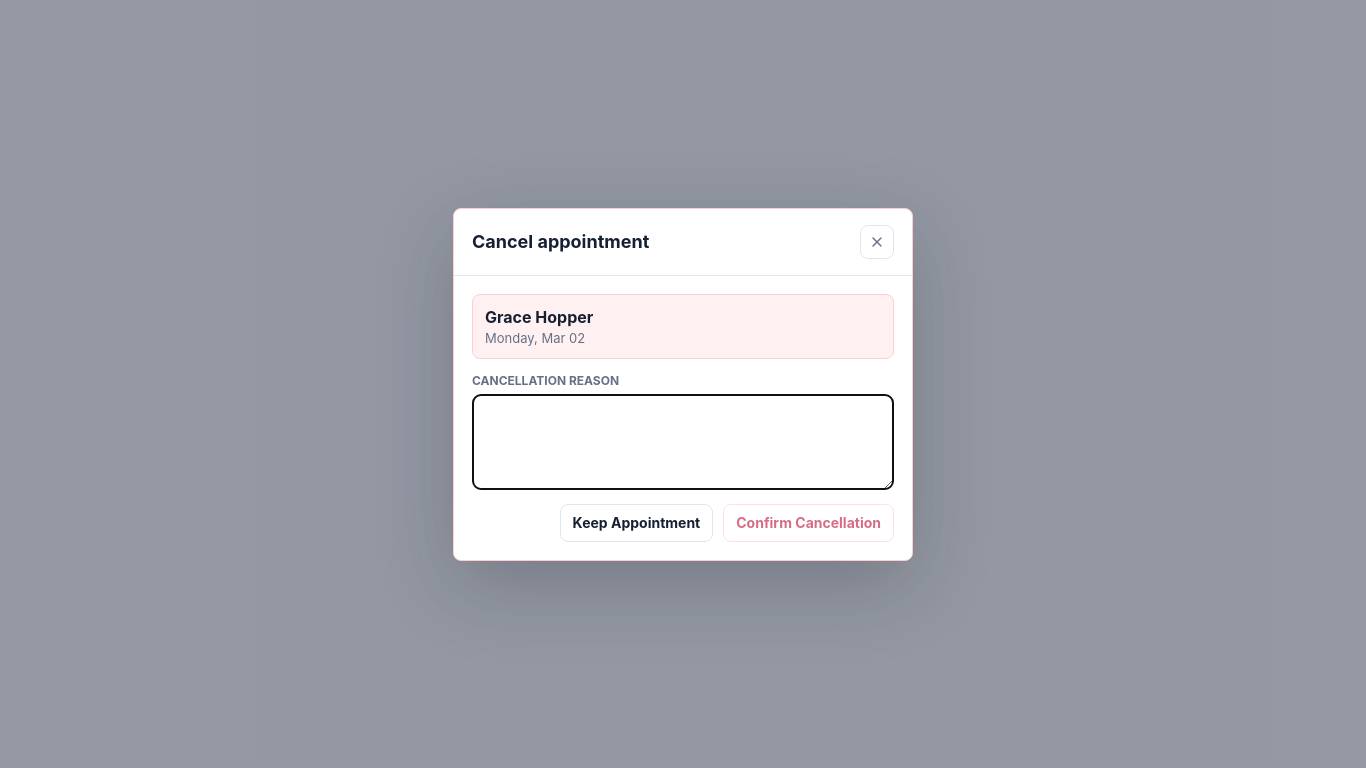
Test: CancelAppointmentDialog › shows what the API refused and stays open until the reason changes
Type "Patient called" into the text box labelled "Cancellation Reason" at (683, 442), box [472,394,894,490]
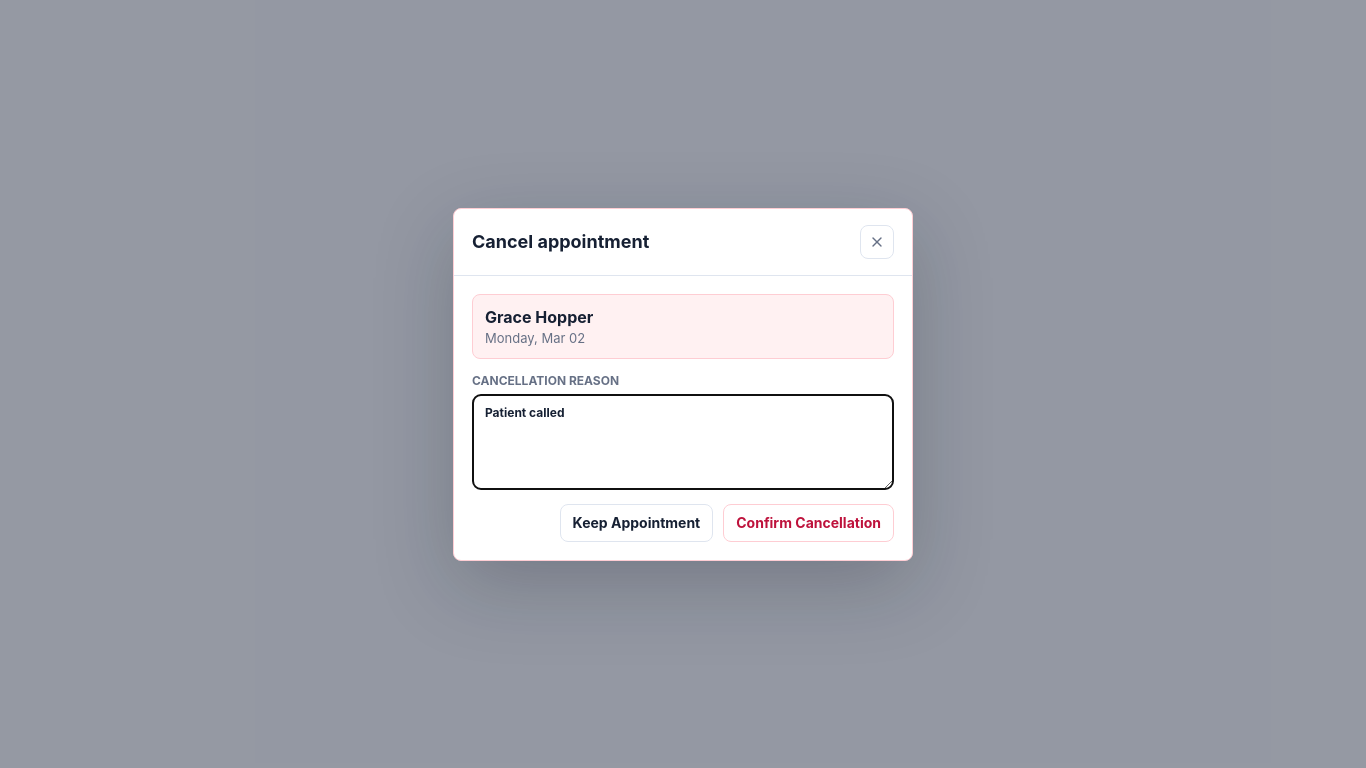
Click the button "Confirm Cancellation" at (809, 522), box [723,504,894,542]
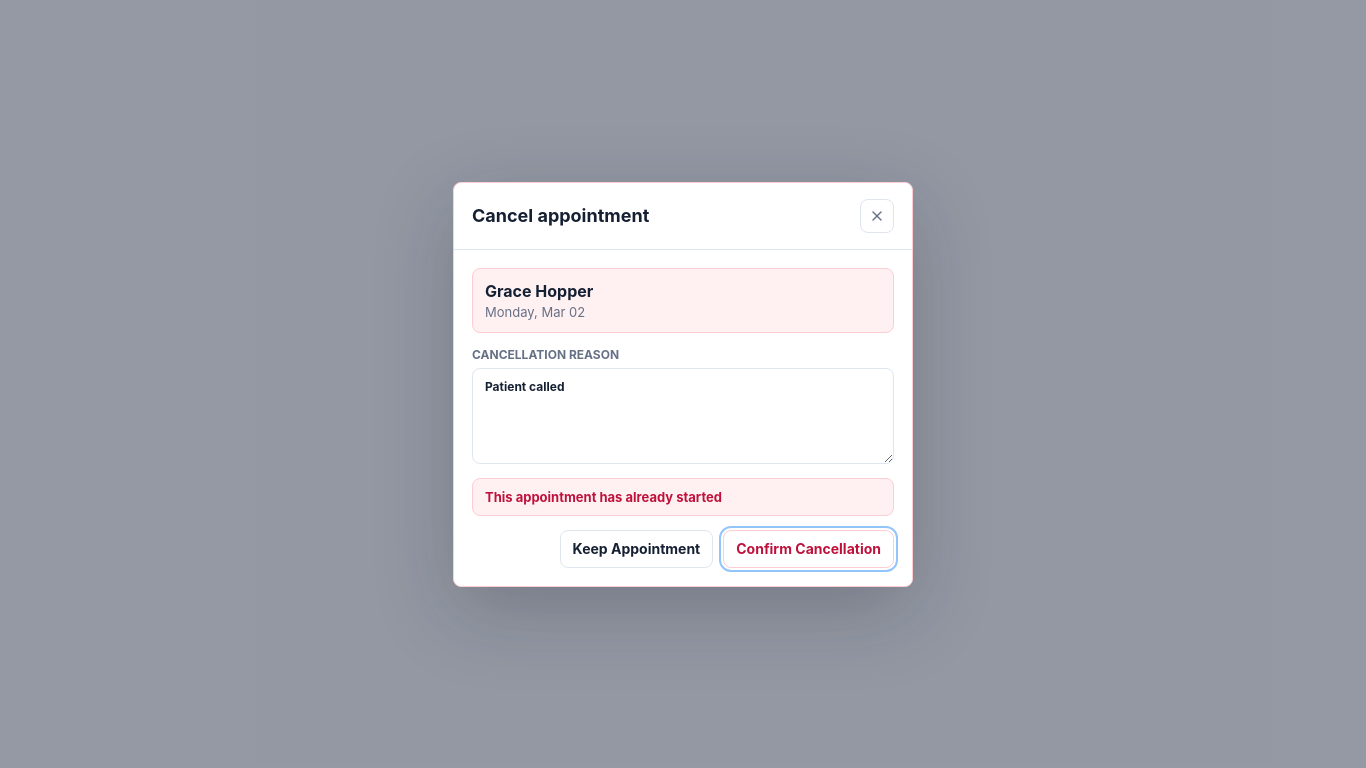
Check: the text "This appointment has already started" is shown, box [472,478,894,516]
Type "." into the text box labelled "Cancellation Reason" at (683, 416), box [472,368,894,464]
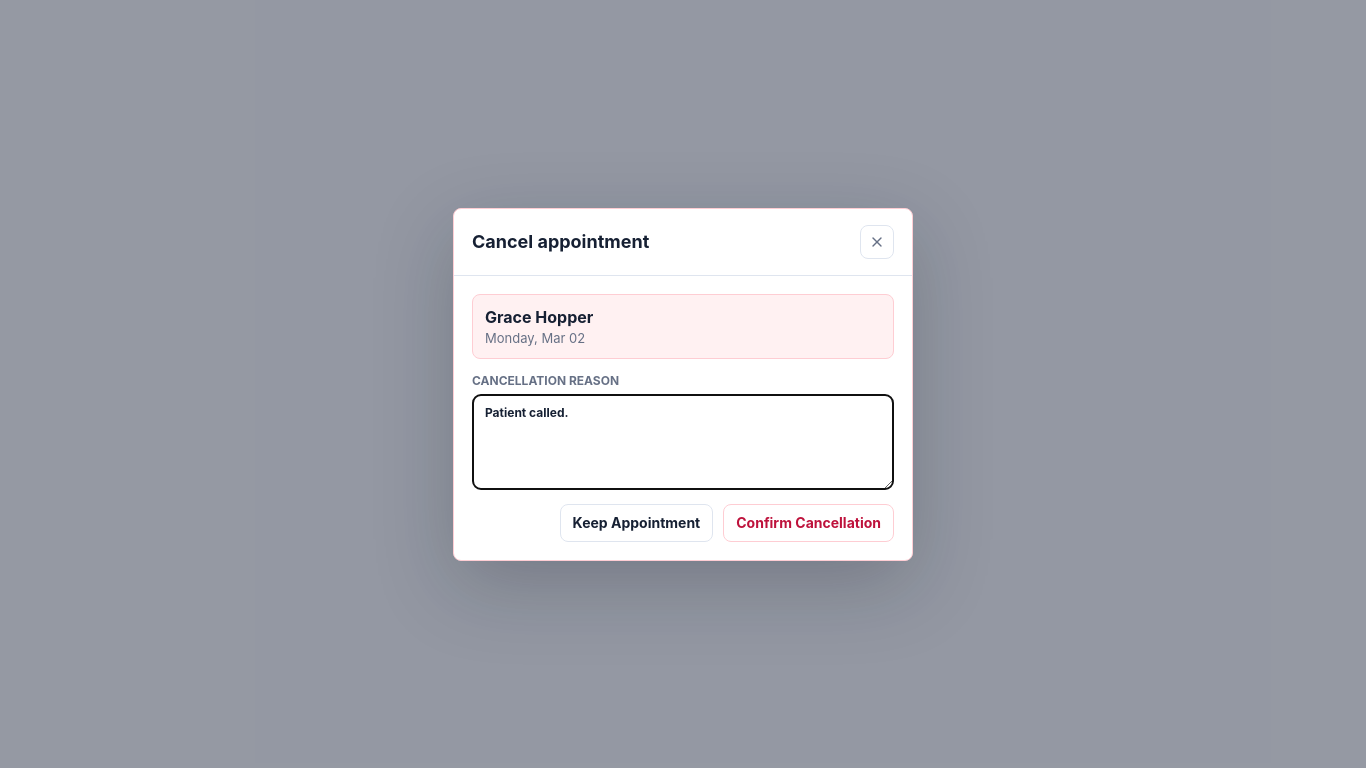
Check: the text "This appointment has already started" is gone
